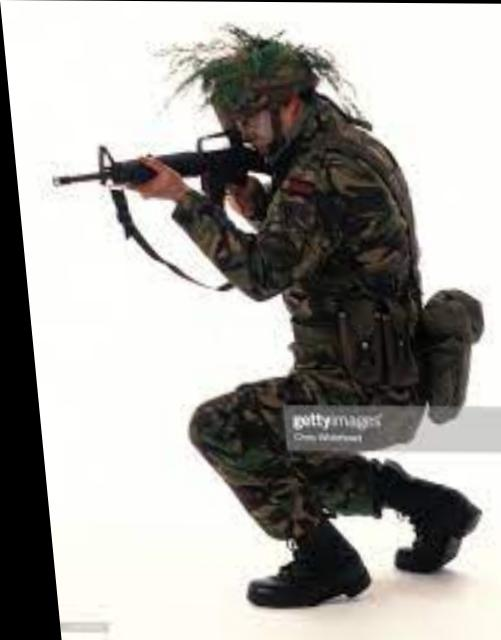other: (79, 25, 481, 600)
